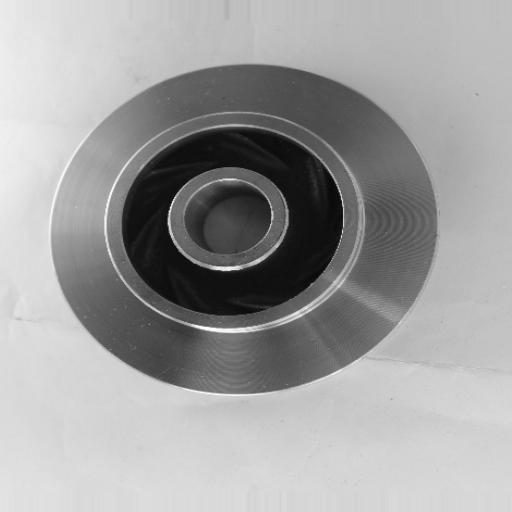polished_casting: (49, 61, 440, 400)
